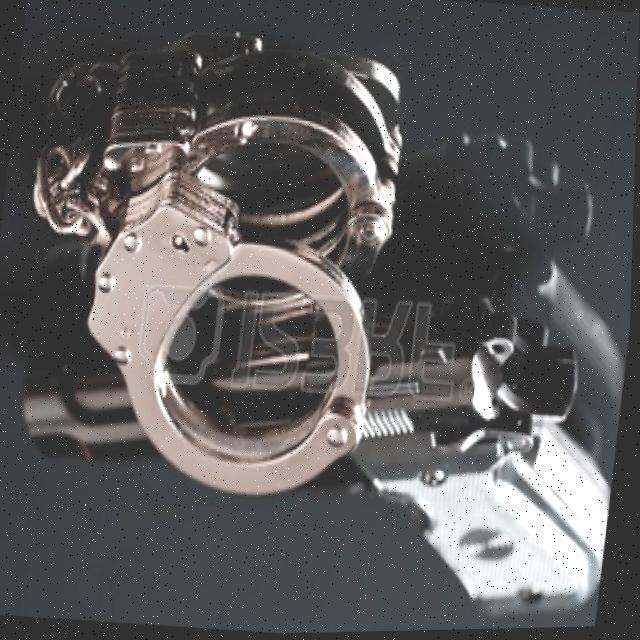pistol: (0, 280, 632, 640)
